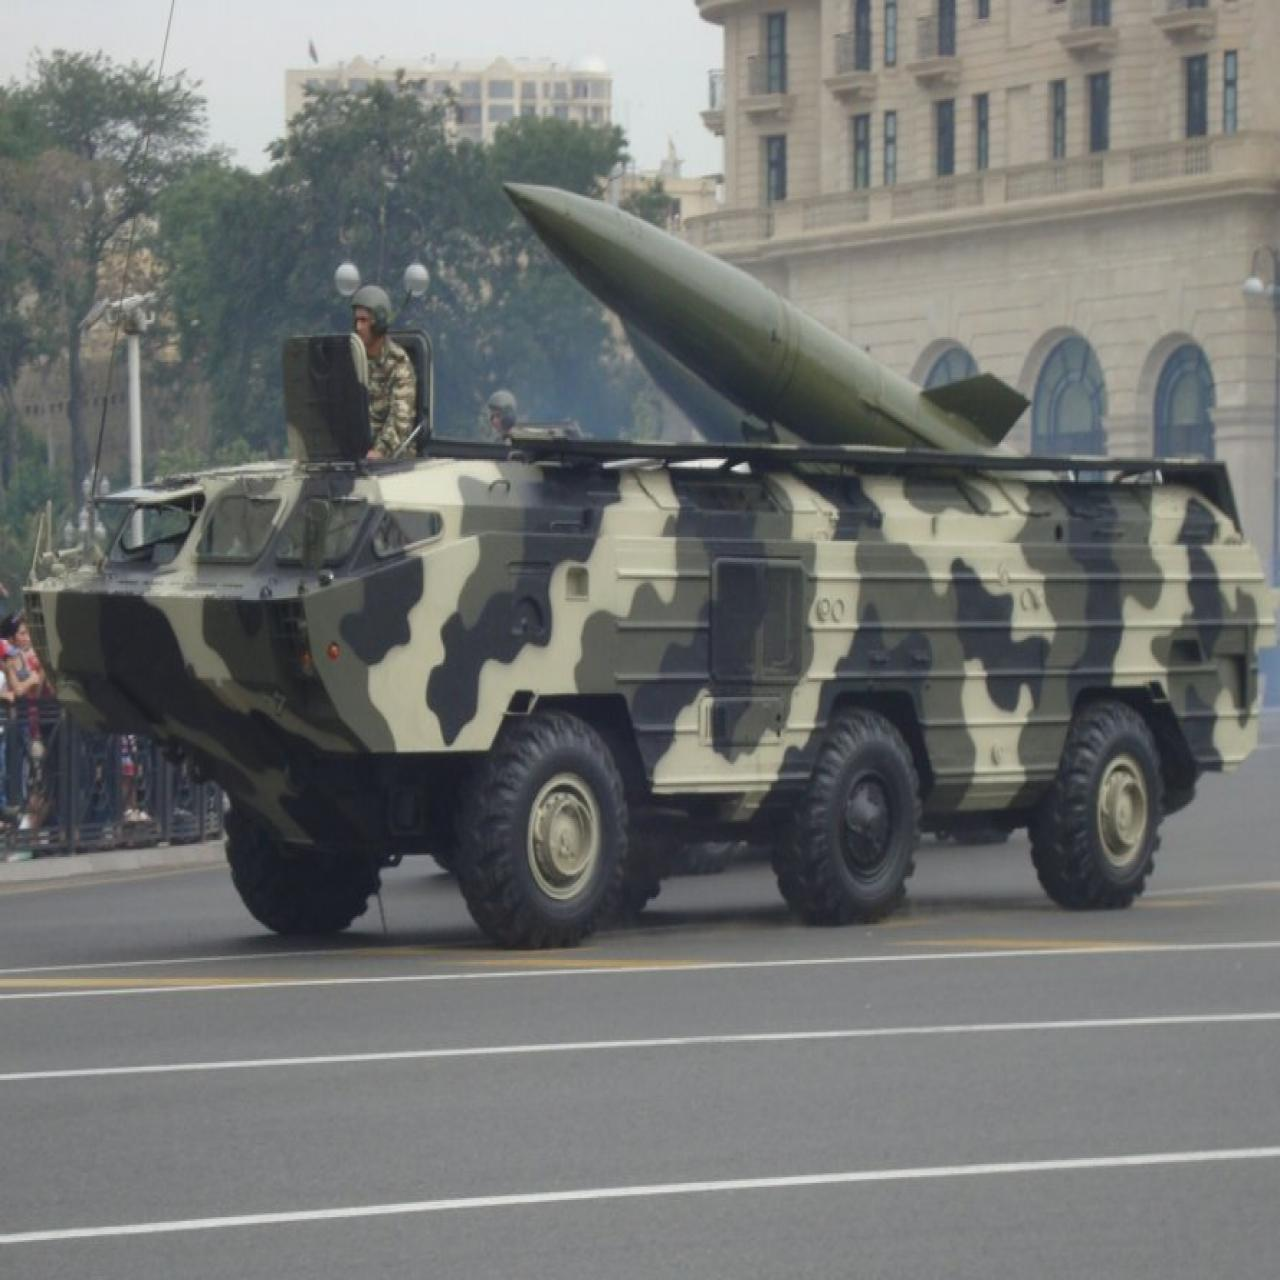MIL_Veh: (30, 176, 1280, 942)
